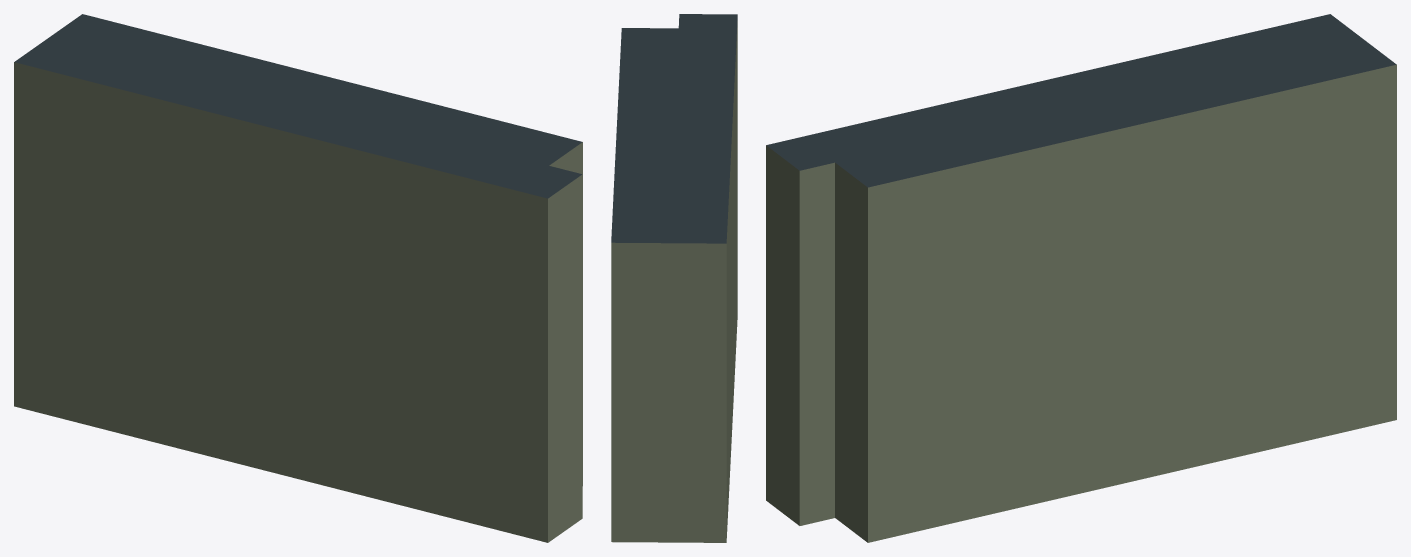
File: nyc-1015237-0.glb
3 views of the same model, side by side, from view 1: azimuth 30°, elevation 25°; view 2: azimuth 150°, elevation 25°; view 3: azimuth 270°, elevation 25° (orthographic). The views are drawn at different scales.
Parts seen in each view (by area): view 1: nyc-1015237-0; view 2: nyc-1015237-0; view 3: nyc-1015237-0.
Boxes of the visible parts, <box> form: nyc-1015237-0: <box>14,14,582,542</box>; nyc-1015237-0: <box>611,14,737,542</box>; nyc-1015237-0: <box>766,14,1396,542</box>.
Bounding box in the file's own units: 19.16 × 18.29 × 29.42.
